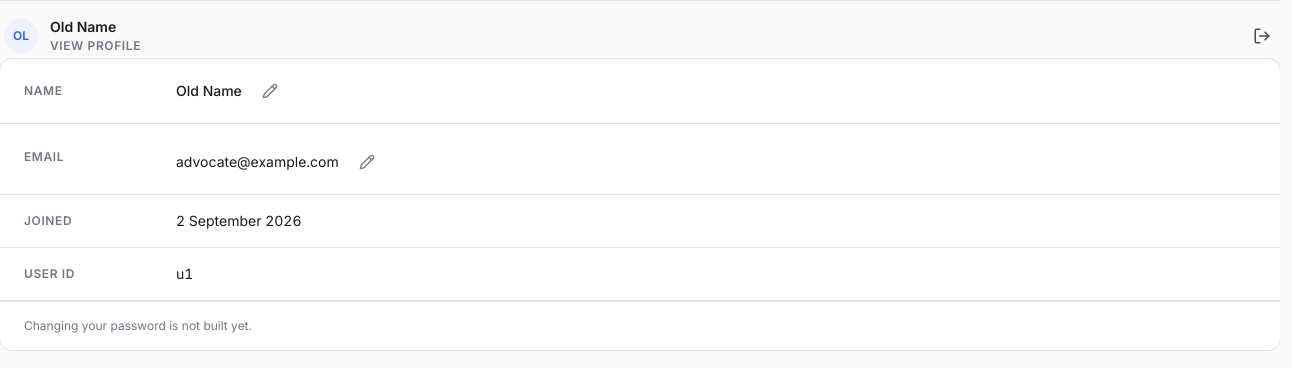
it: saves a new name and updates the sidebar with it
Click the button named "Edit name" at (270, 91), box [254,75,286,107]
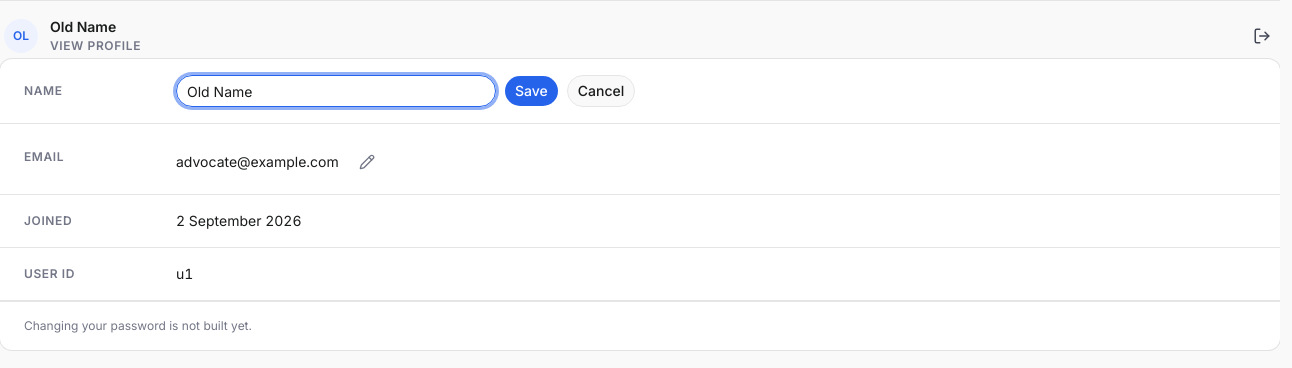
Replace the text in the field named "Name" with "New Name" at (336, 91), box [176,75,496,107]
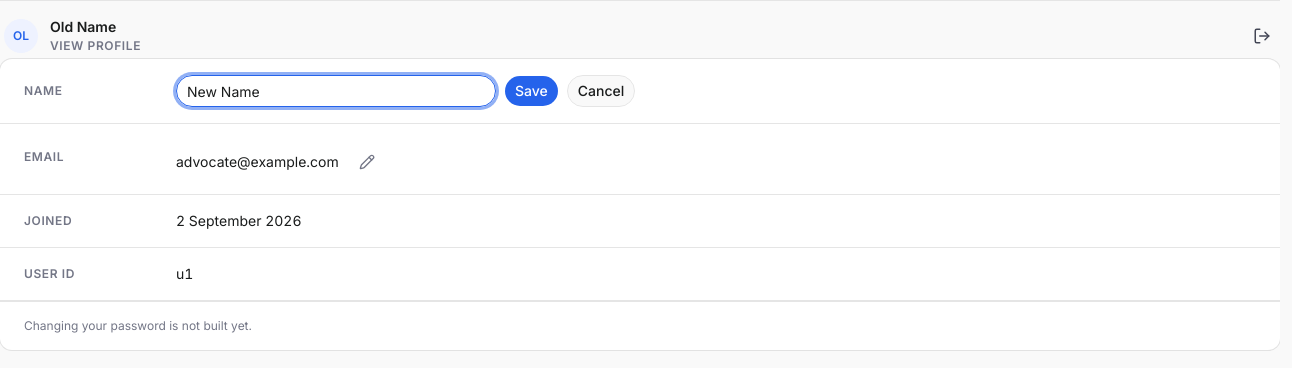
Click the button "Save" at (531, 91), box [504,75,559,107]
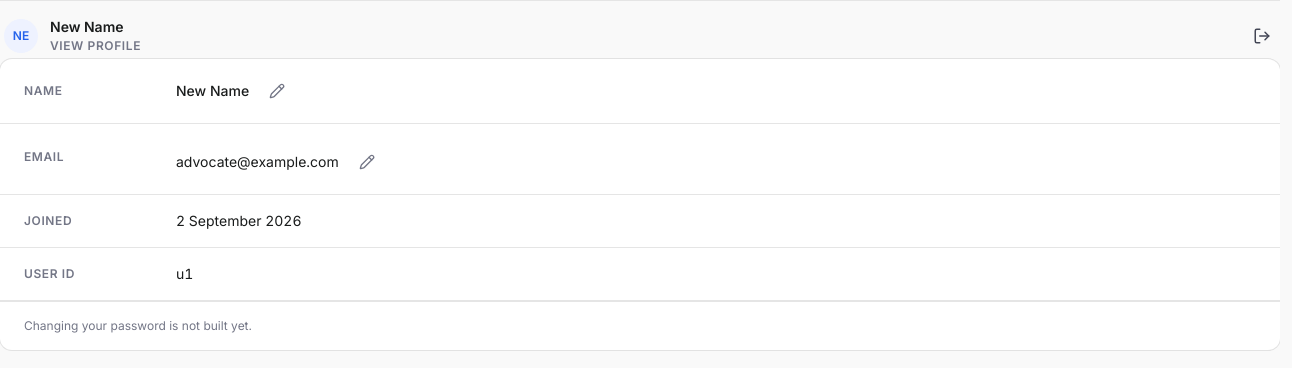
expect the link "NE New Name View profile" is shown: met, box [4,18,141,53]
